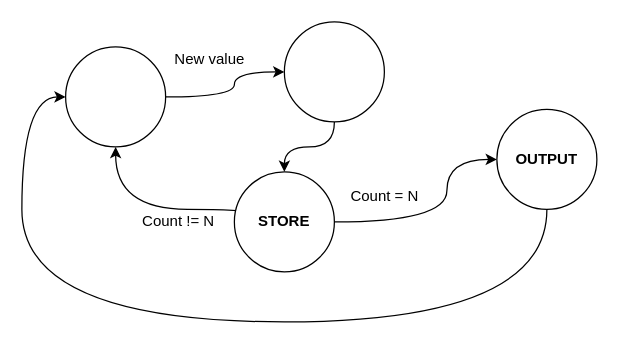
Some shapes in this 619 by 344 pixel diagram are drawn without their labels. The centre of each missing label's shape, as x and y in pixels:
"CALCULATE" belongs at (x=333, y=71).
"IDLE" belongs at (x=115, y=96).
